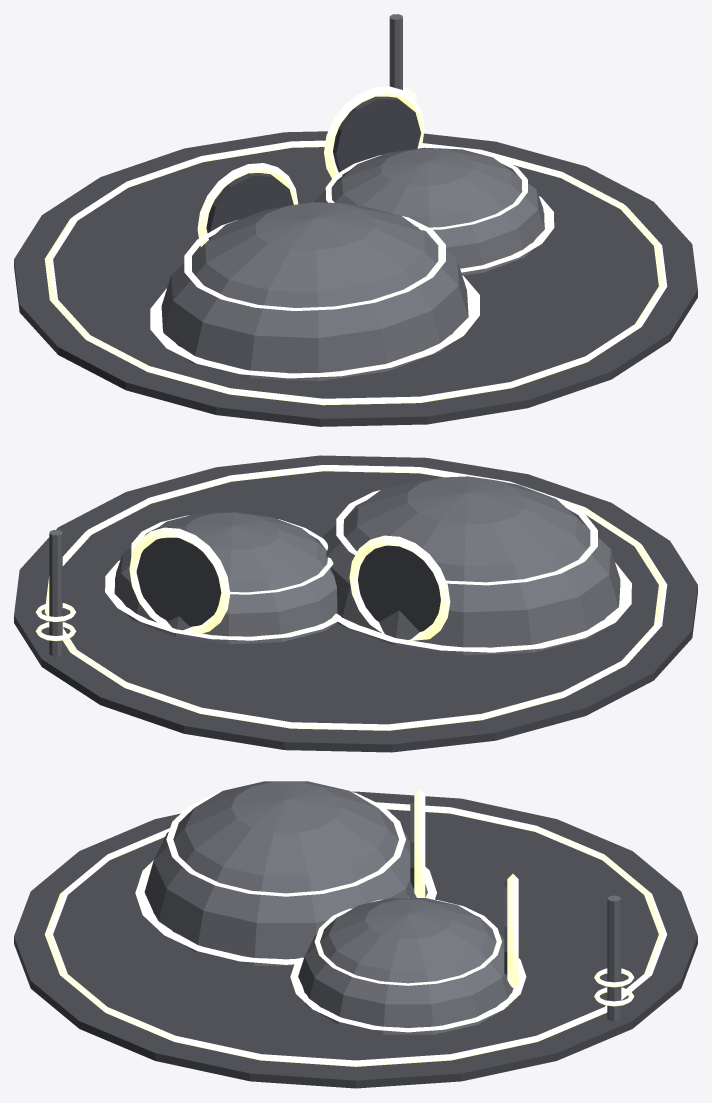
The model's file is zone_low_4_t2.glb.
The picture shows the model from 3 angles, top to bottom: view 1: azimuth 30°, elevation 25°; view 2: azimuth 150°, elevation 25°; view 3: azimuth 270°, elevation 25°; orthographic projection.
Parts seen in each view (by area): view 1: zone_low_4_t2, detail; view 2: zone_low_4_t2, detail; view 3: zone_low_4_t2, detail.
Boxes of the visible parts, <box> form: zone_low_4_t2: <box>14,86,697,426</box>; detail: <box>44,14,667,405</box>; zone_low_4_t2: <box>14,455,697,752</box>; detail: <box>35,465,667,730</box>; zone_low_4_t2: <box>14,781,697,1088</box>; detail: <box>44,792,667,1066</box>.
Size of the model in its own units: 19.6 by 4.05 by 19.6.
